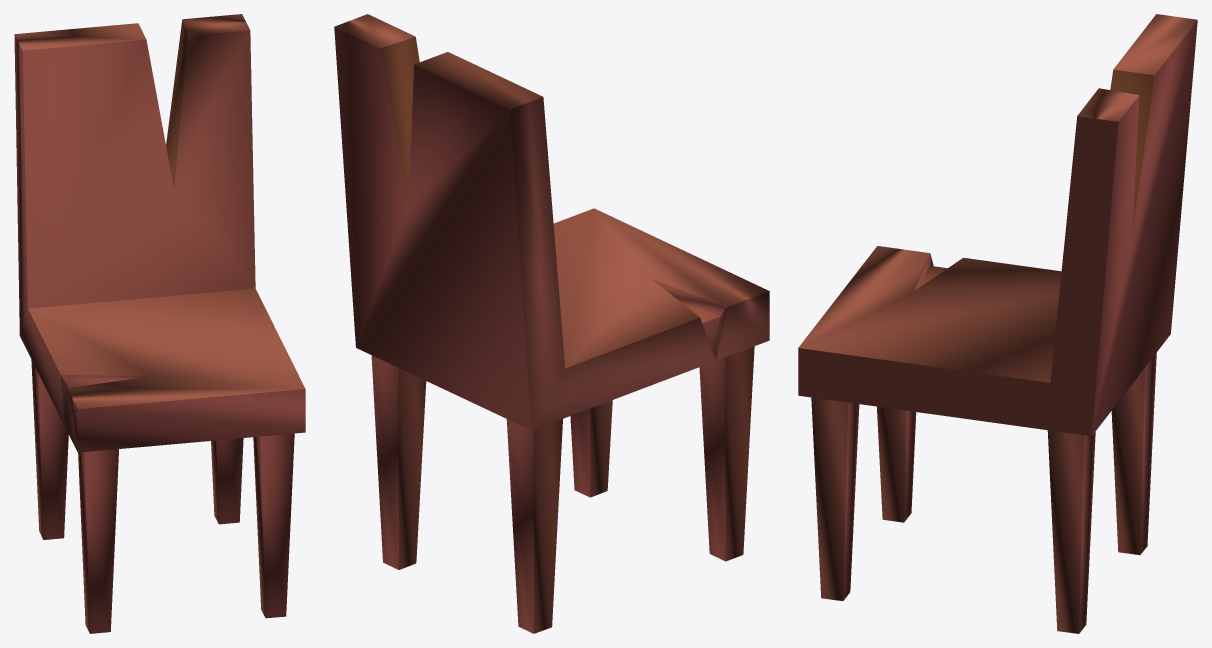
File: apoc_prop_11.glb
3 views of the same model, side by side, from view 1: azimuth 30°, elevation 25°; view 2: azimuth 150°, elevation 25°; view 3: azimuth 270°, elevation 25° (orthographic). The views are drawn at different scales.
Visible parts, largest first — view 1: prop_011; view 2: prop_011; view 3: prop_011.
Boxes of the visible parts, x1,y1,x2,y2 form: prop_011: (14,14,305,633); prop_011: (334,14,769,633); prop_011: (798,14,1197,633).
Bounding box in the file's own units: 0.1368 × 0.2288 × 0.1577.
Materials: 1 (1 with a texture image).
